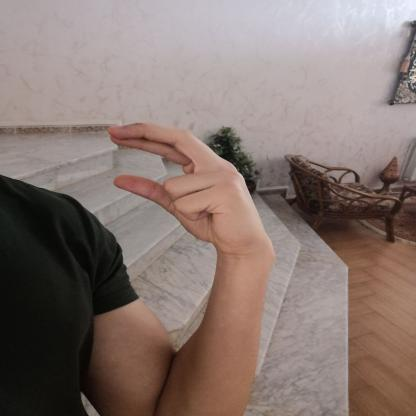DHELL: (94, 112, 269, 255)
